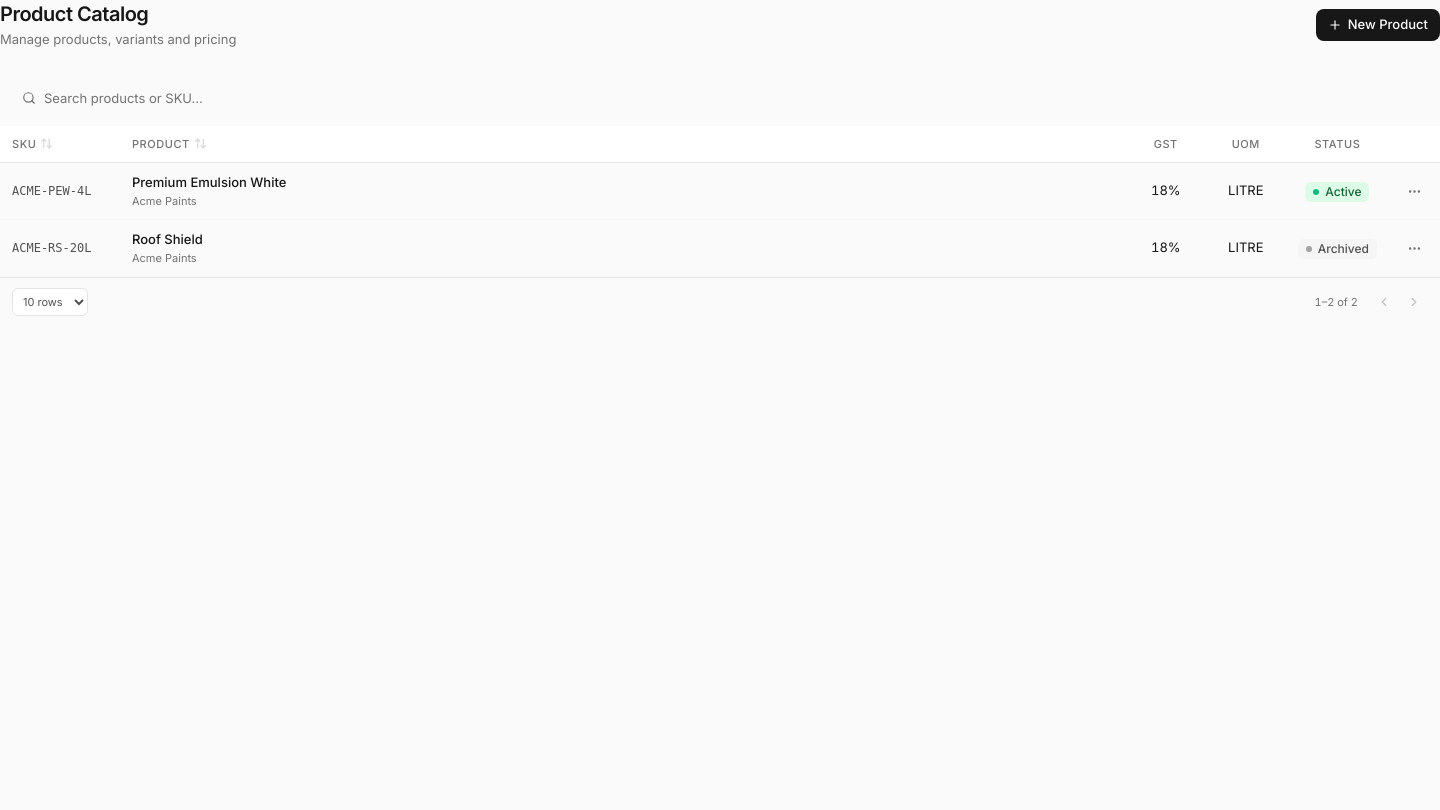
Test: ProductCatalogPage › validates required fields on submit
Click the button "New Product" at (1378, 25), box [1316,9,1439,41]
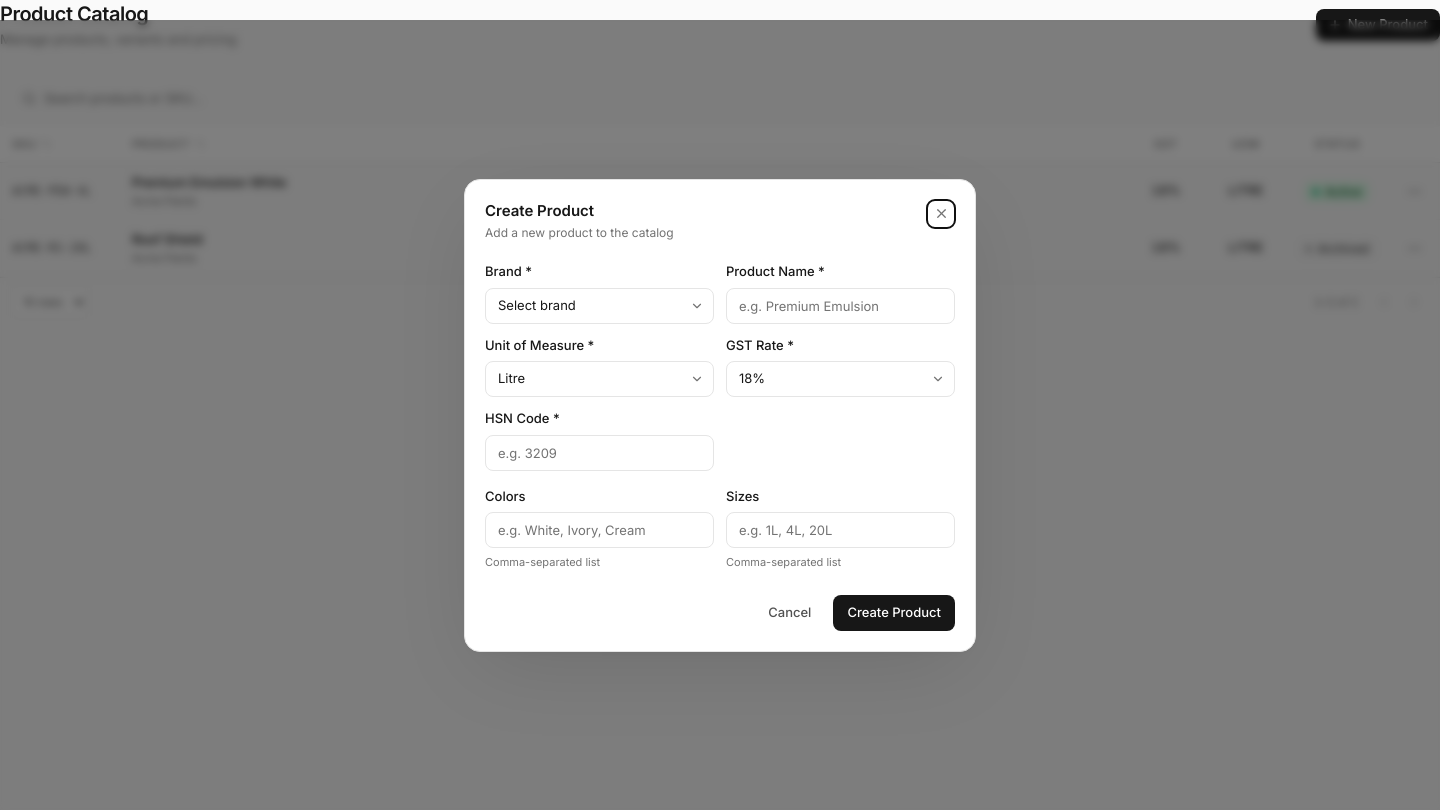
Now the heading "Create Product" is shown, box [485,200,594,220]
Click the button "Create Product" at (894, 612), box [833,594,955,630]
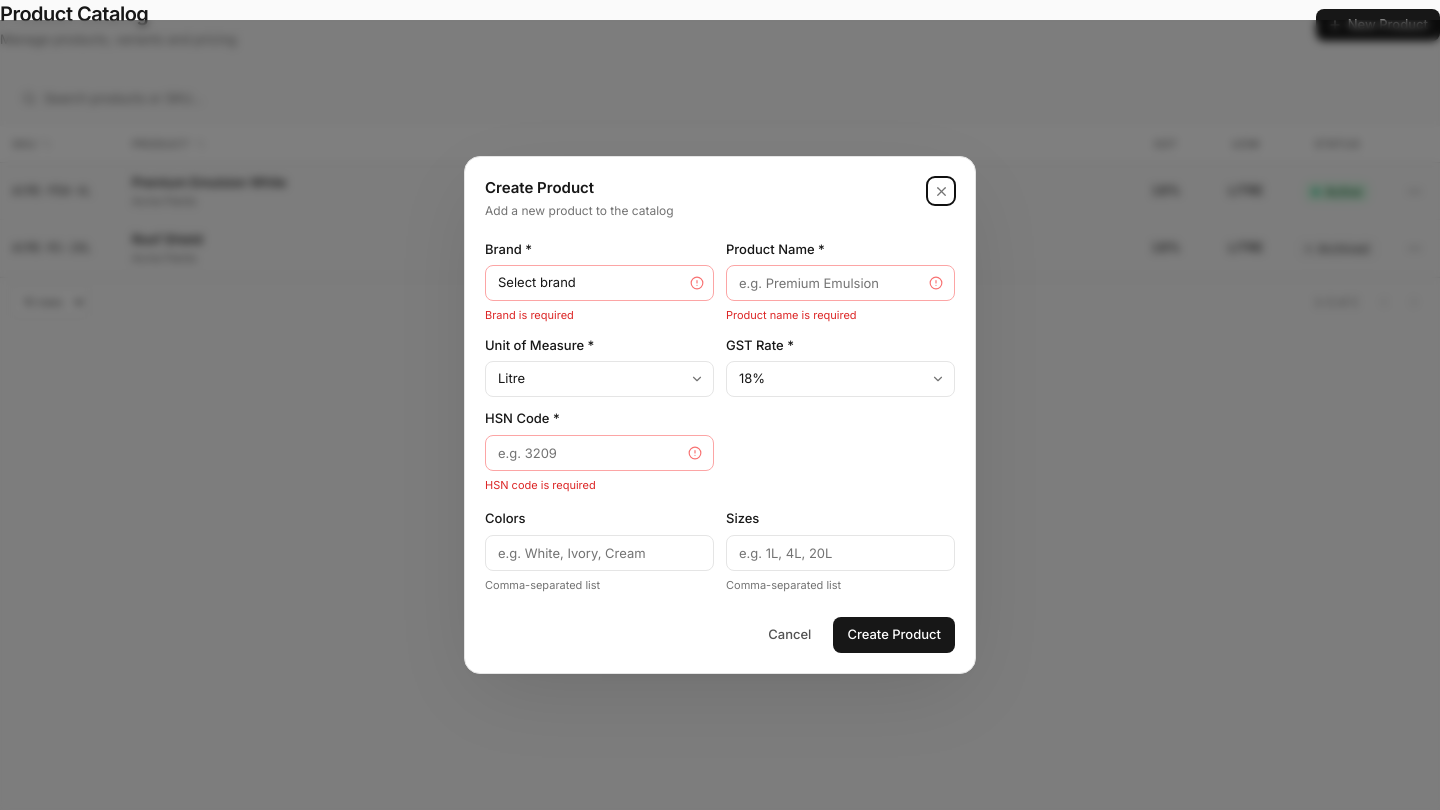
Now the text "Brand is required" is shown, box [485,308,574,322]
